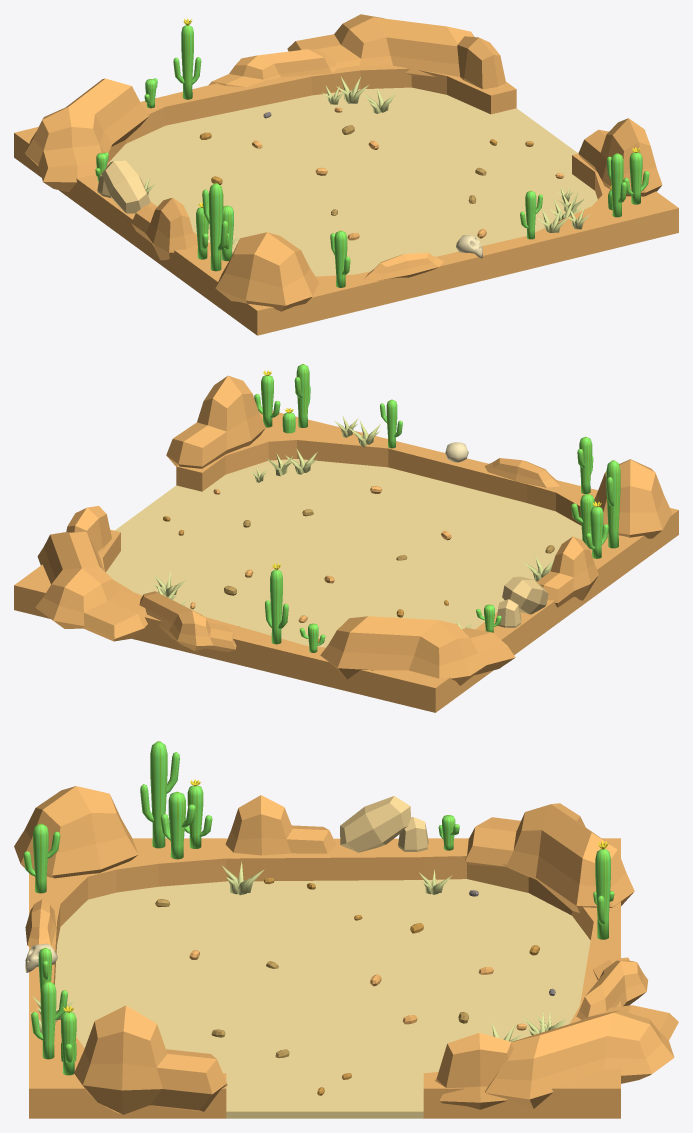
The model's file is desert level set - 1 Way (4).fbx.
3 renders of one model, top to bottom at view 1: azimuth 30°, elevation 25°; view 2: azimuth 150°, elevation 25°; view 3: azimuth 270°, elevation 25°, orthographic. The views are drawn at different scales.
Visible parts, largest first — view 1: land_platform_001, Cube_004, Cube_008, Cube_005, Cube_009, Cube_002, Cube_001, Cube_006, Cube_007, CACTUS_010, Cube_000, CACTUS_005 (+5 smaller); view 2: land_platform_001, Cube_004, Cube_008, Cube_009, Cube_005, Cube_002, Cube_001, Cube_007, Cube_000, Cube_006, CACTUS_005, CACTUS_010 (+6 smaller); view 3: land_platform_001, Cube_008, Cube_009, Cube_004, Cube_005, Cube_001, Cube_006, Cube_007, Cube_002, CACTUS_010, CACTUS_009, CACTUS_006 (+5 smaller).
Boxes of the visible parts, <box> form: land_platform_001: <box>14,65,678,335</box>; Cube_004: <box>25,78,148,192</box>; Cube_008: <box>287,14,473,76</box>; Cube_005: <box>215,232,318,311</box>; Cube_009: <box>578,118,662,196</box>; Cube_002: <box>208,49,337,87</box>; Cube_001: <box>131,197,196,260</box>; Cube_006: <box>457,36,505,89</box>; Cube_007: <box>97,160,150,213</box>; CACTUS_010: <box>202,183,228,271</box>; Cube_000: <box>364,252,443,280</box>; CACTUS_005: <box>173,18,201,99</box>; land_platform_001: <box>14,411,678,712</box>; Cube_004: <box>320,616,515,685</box>; Cube_008: <box>35,531,147,641</box>; Cube_009: <box>166,375,265,468</box>; Cube_005: <box>594,459,671,538</box>; Cube_002: <box>139,591,236,652</box>; Cube_001: <box>537,536,598,607</box>; Cube_007: <box>497,576,548,627</box>; Cube_000: <box>484,458,560,487</box>; Cube_006: <box>66,506,111,552</box>; CACTUS_005: <box>265,563,288,644</box>; CACTUS_010: <box>606,460,620,548</box>; land_platform_001: <box>29,838,620,1118</box>; Cube_008: <box>485,1005,678,1108</box>; Cube_009: <box>74,1005,226,1114</box>; Cube_004: <box>465,803,634,912</box>; Cube_005: <box>14,786,138,878</box>; Cube_001: <box>225,795,336,855</box>; Cube_006: <box>435,1033,513,1109</box>; Cube_007: <box>340,796,428,852</box>; Cube_002: <box>576,957,648,1019</box>; CACTUS_010: <box>140,741,179,848</box>; CACTUS_009: <box>31,981,67,1059</box>; CACTUS_006: <box>160,791,195,859</box>.
Size of the model in its own units: 16.67 by 3.86 by 17.05.
